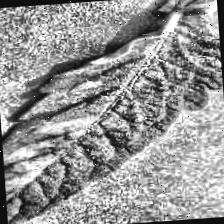leaf mold: (0, 33, 224, 224)
